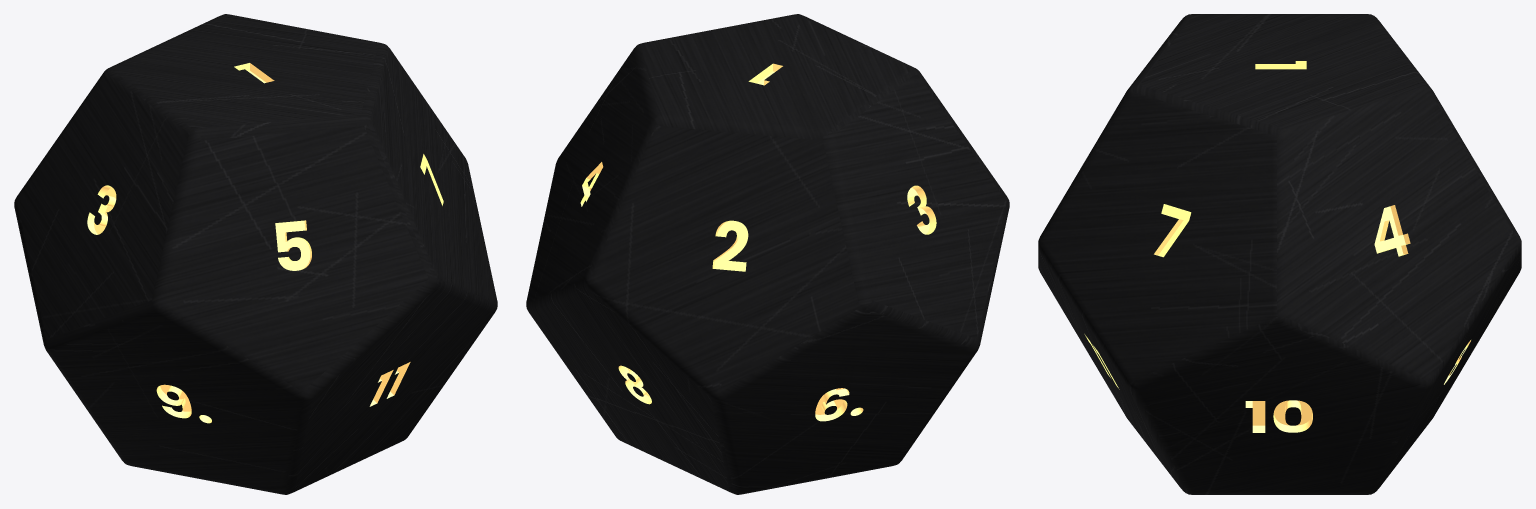
Rendered from MP_D12_BlackGold.glb.
3 views of the same model, side by side, from view 1: azimuth 30°, elevation 25°; view 2: azimuth 150°, elevation 25°; view 3: azimuth 270°, elevation 25° (orthographic). The views are drawn at different scales.
Parts seen in each view (by area): view 1: D12_BlackGold; view 2: D12_BlackGold; view 3: D12_BlackGold.
Boxes of the visible parts, x1,y1,x2,y2 form: D12_BlackGold: [14, 14, 497, 494]; D12_BlackGold: [526, 14, 1009, 494]; D12_BlackGold: [1038, 14, 1521, 494].
Bounding box in the file's own units: 1 × 0.8198 × 0.9523.
Materials: 2 (1 with a texture image).
